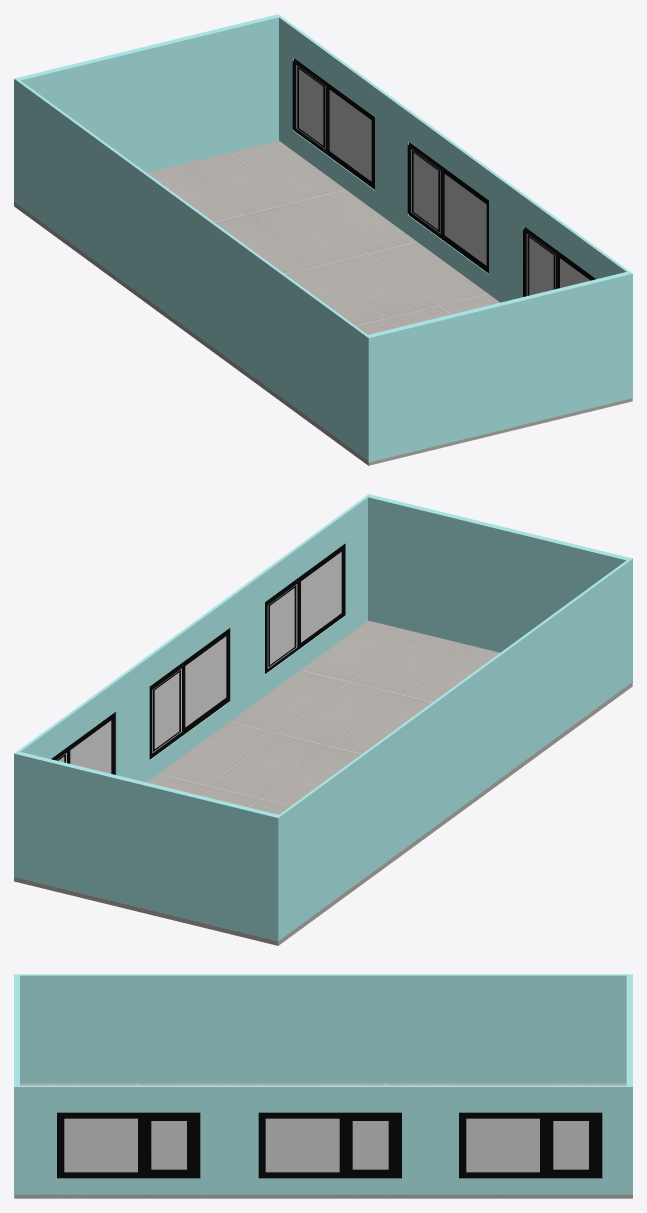
The model's file is ruanganlagiii.fbx.
3 views of the same model, one above another, from view 1: azimuth 30°, elevation 25°; view 2: azimuth 150°, elevation 25°; view 3: azimuth 270°, elevation 25° (orthographic). The views are drawn at different scales.
Visible parts, largest first — view 1: lantai; view 2: lantai; view 3: lantai.
Boxes of the visible parts, box(x1,y1,x2,y2) form: lantai: box(14, 14, 632, 465); lantai: box(14, 494, 632, 945); lantai: box(14, 974, 632, 1198).
Bounding box in the file's own units: 1899 × 873 × 4394.
4 materials, 1 textured.
